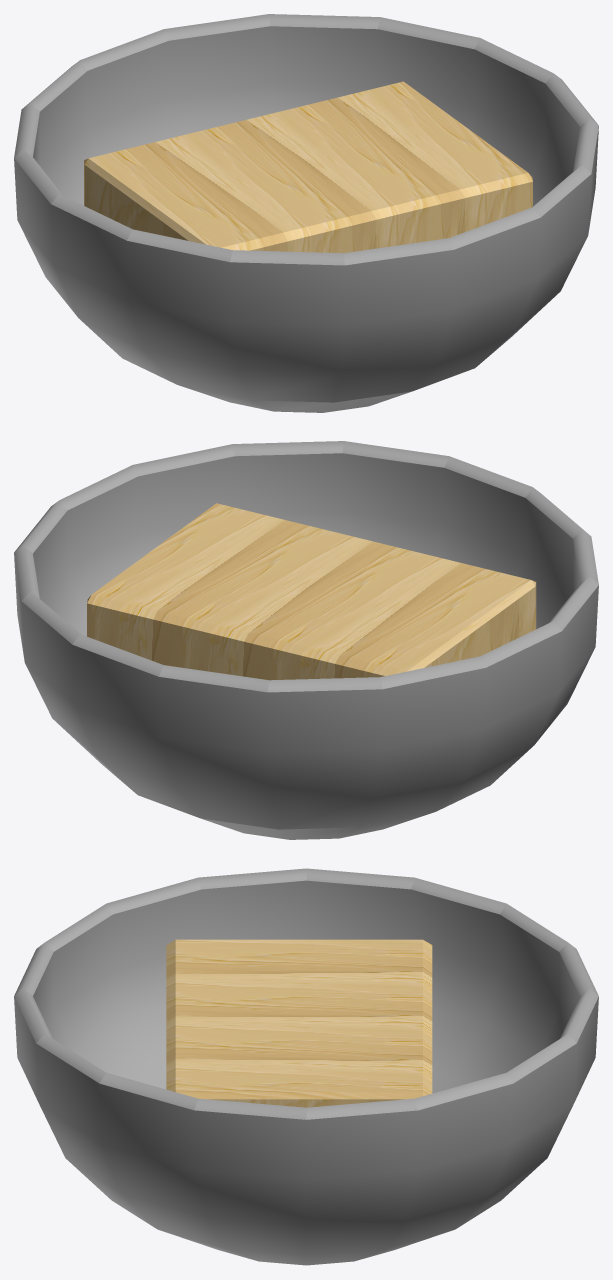
Rendered from Bowl with butter block.fbx.
The picture shows the model from 3 angles, top to bottom: view 1: azimuth 30°, elevation 25°; view 2: azimuth 150°, elevation 25°; view 3: azimuth 270°, elevation 25°; orthographic projection.
Parts seen in each view (by area): view 1: Bowl_with_butter_block; view 2: Bowl_with_butter_block; view 3: Bowl_with_butter_block.
Part boxes in pixels (x1=…): Bowl_with_butter_block: x1=14, y1=14, x2=598, y2=412; Bowl_with_butter_block: x1=14, y1=441, x2=598, y2=839; Bowl_with_butter_block: x1=14, y1=868, x2=598, y2=1265.
Bounding box in the file's own units: 151 × 63.94 × 151.
Materials: 2 (1 with a texture image).
